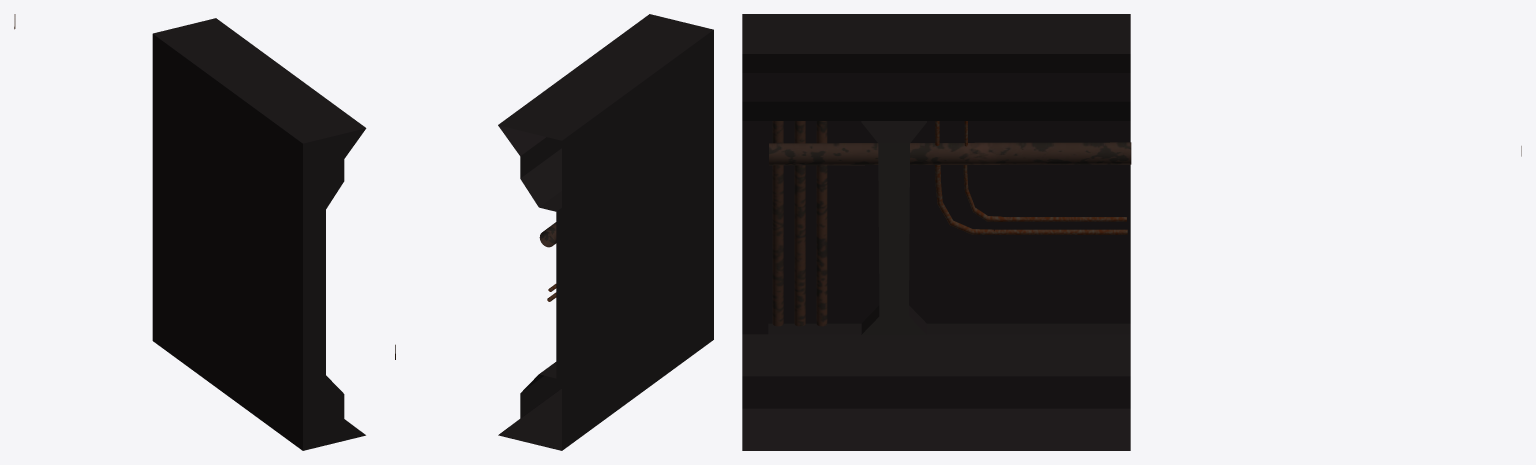
File: wall2 sidea.obj
3 renders of one model, left to right at view 1: azimuth 30°, elevation 25°; view 2: azimuth 150°, elevation 25°; view 3: azimuth 270°, elevation 25°, orthographic. The views are drawn at different scales.
Parts seen in each view (by area): view 1: pCube1; view 2: pCube1; view 3: pCube1, pCube2, pCylinder1, pCylinder2, pCylinder3, pCylinder4, pCylinder6.
Part boxes in pixels (box(x1,y1,x2,y2)): pCube1: box(152, 18, 366, 450); pCube1: box(498, 14, 713, 450); pCube1: box(742, 14, 1130, 450); pCube2: box(861, 121, 926, 334); pCylinder1: box(769, 142, 1131, 165); pCylinder2: box(772, 121, 783, 326); pCylinder3: box(794, 121, 805, 326); pCylinder4: box(816, 121, 827, 326); pCylinder6: box(995, 229, 1127, 234).
Bounding box in the file's own units: 3.31 × 15.29 × 27.22.
1 material, 1 textured.
